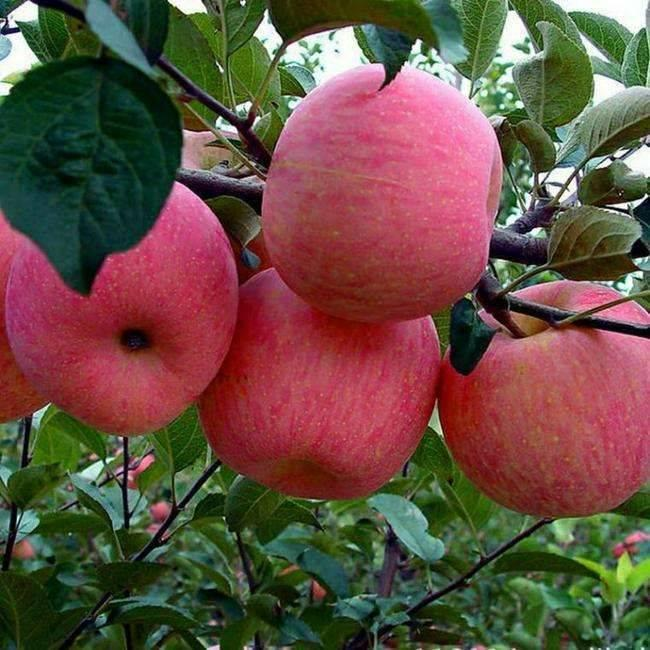apple: (264, 62, 508, 320), (1, 178, 239, 436), (191, 265, 441, 500), (437, 283, 650, 516)
